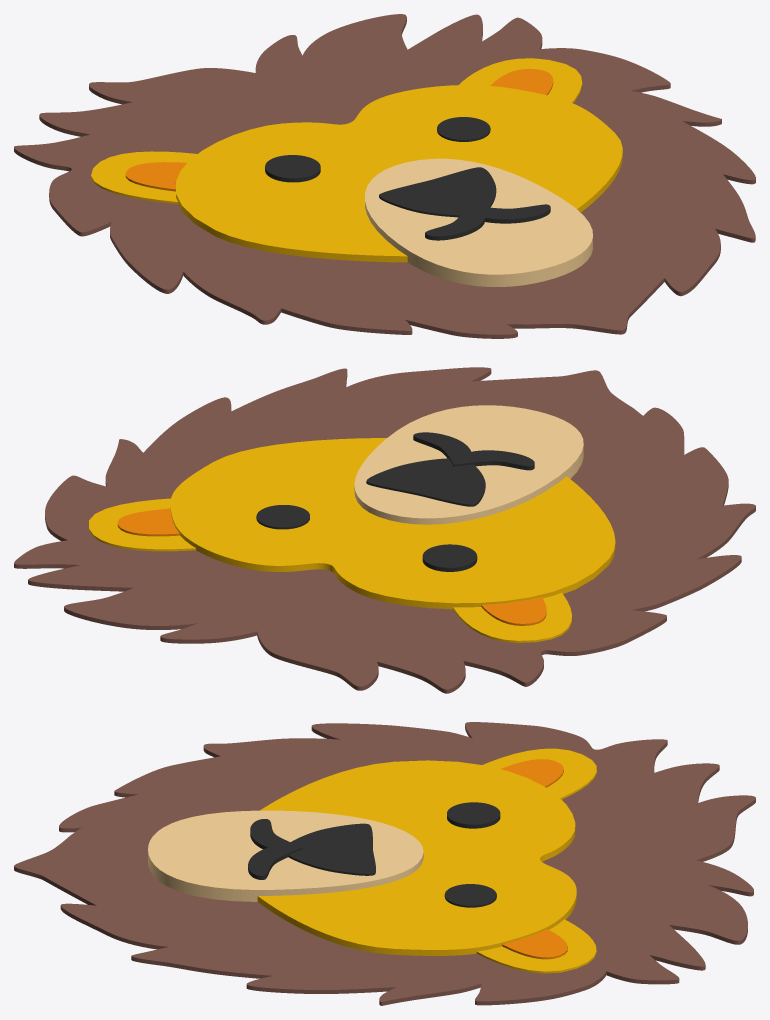
The model's file is emoji_u1f981.glb.
3 views of the same model, one above another, from view 1: azimuth 30°, elevation 25°; view 2: azimuth 150°, elevation 25°; view 3: azimuth 270°, elevation 25° (orthographic). The views are drawn at different scales.
Parts seen in each view (by area): view 1: emoji_u1f981; view 2: emoji_u1f981; view 3: emoji_u1f981.
Boxes of the visible parts, x1,y1,x2,y2 form: emoji_u1f981: (14,14,755,338); emoji_u1f981: (14,367,755,693); emoji_u1f981: (14,722,755,1005).
Size of the model in its own units: 0.0301 by 0.0018 by 0.0337.
